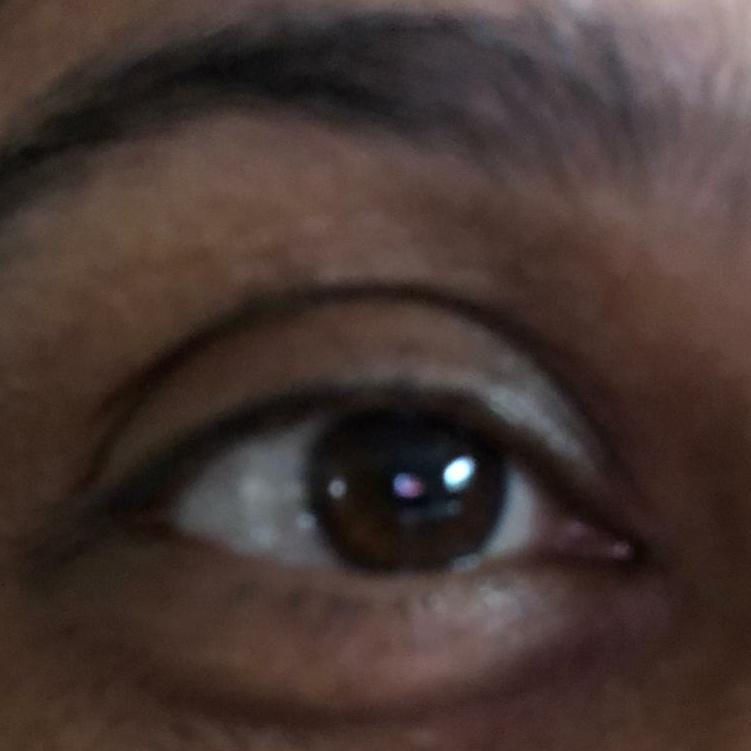open: (0, 242, 748, 731)
